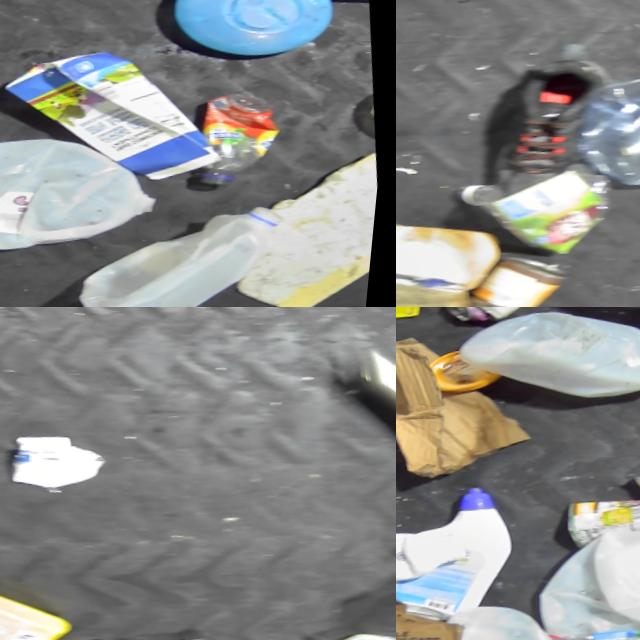can: (458, 234, 580, 307), (566, 479, 640, 543), (114, 622, 235, 640)
milk_jug: (70, 177, 307, 307), (0, 106, 181, 262), (464, 307, 640, 413), (545, 500, 640, 640), (442, 593, 568, 640)
